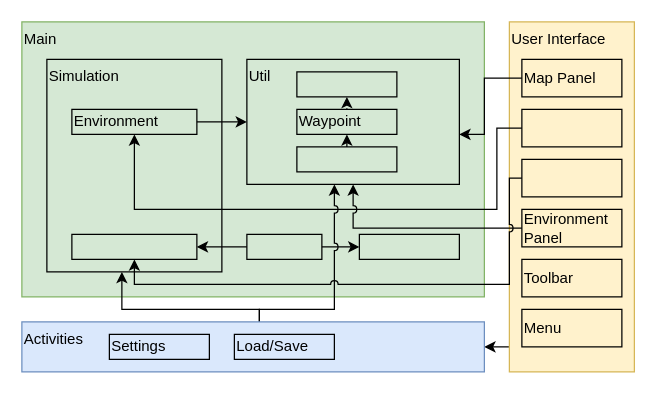
This 656x394 diagram has some shape labels left out. The shapes that lost their labels are listed below. From the top down, each one's centre as x and y in pixels, then its label:
At pixel 346 84: "Runway".
At pixel 571 127: "Simulation Panel".
At pixel 346 159: "Route".
At pixel 571 177: "Status Panel".
At pixel 134 246: "Misson".
At pixel 284 246: "Aircraft".
At pixel 408 246: "AircraftData".
